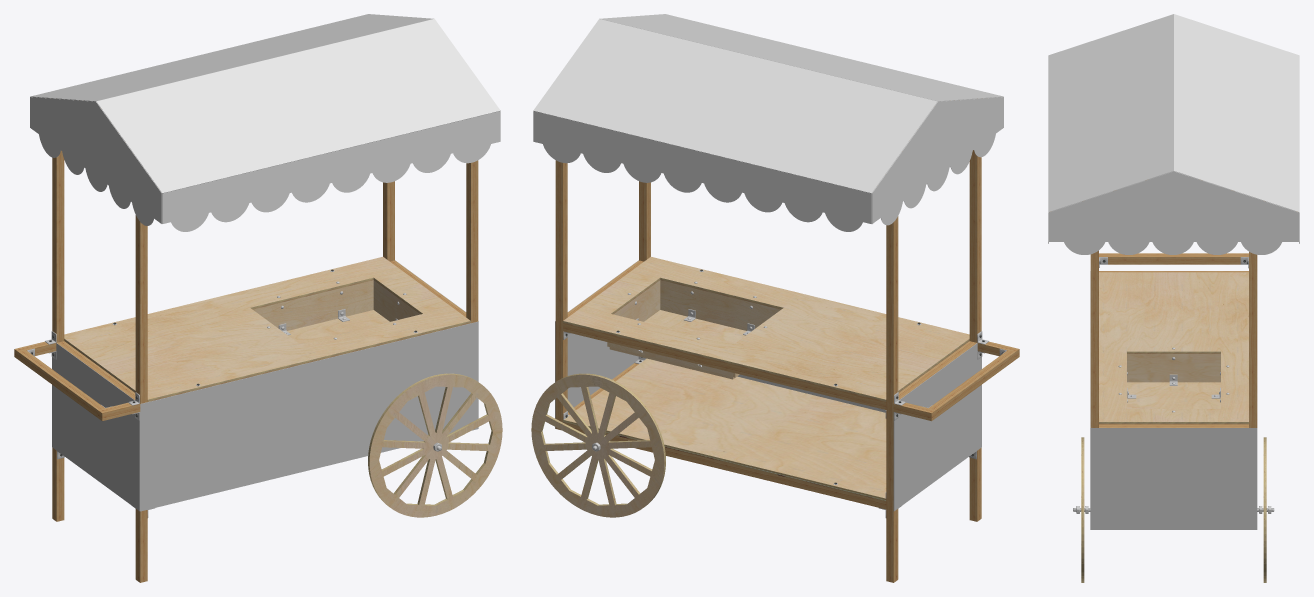
The picture shows the model from 3 angles, left to right: view 1: azimuth 30°, elevation 25°; view 2: azimuth 150°, elevation 25°; view 3: azimuth 270°, elevation 25°; orthographic projection. The views are drawn at different scales.
Parts seen in each view (by area): view 1: Плоскость.064, Плоскость.066, STOL.018, Цилиндр.007, KOLESO.024, Плоскость.067, Цилиндр.006, Плоскость.065, Куб.288, Куб.292, Куб.311, Куб.295 (+4 smaller); view 2: Плоскость.065, STOL.019, STOL.018, Цилиндр.005, KOLESO.023, Плоскость.067, Цилиндр.006, Плоскость.064, Куб.288, Куб.292, Куб.310, Куб.291 (+8 smaller); view 3: Плоскость.064, Плоскость.065, STOL.018, Плоскость.068, Цилиндр.008, Куб.313, Куб.314, Куб.284, Куб.295, Куб.291, Куб.297, KOLESO.023 (+1 smaller).
Boxes of the visible parts, left/top/right/bottom form: Плоскость.064: left=96, top=19, right=500, bottom=193; Плоскость.066: left=140, top=321, right=478, bottom=511; STOL.018: left=64, top=257, right=470, bottom=401; Цилиндр.007: left=162, top=111, right=500, bottom=231; KOLESO.024: left=368, top=373, right=502, bottom=517; Плоскость.067: left=52, top=343, right=140, bottom=511; Цилиндр.006: left=30, top=97, right=161, bottom=225; Плоскость.065: left=30, top=14, right=433, bottom=101; Куб.288: left=52, top=150, right=64, bottom=521; Куб.292: left=135, top=215, right=147, bottom=582; Куб.311: left=253, top=280, right=373, bottom=330; Куб.295: left=466, top=160, right=478, bottom=323; Плоскость.065: left=533, top=19, right=937, bottom=193; STOL.019: left=563, top=358, right=886, bottom=501; STOL.018: left=563, top=257, right=969, bottom=401; Цилиндр.005: left=533, top=111, right=871, bottom=231; KOLESO.023: left=531, top=373, right=665, bottom=517; Плоскость.067: left=893, top=343, right=981, bottom=511; Цилиндр.006: left=872, top=97, right=1003, bottom=225; Плоскость.064: left=599, top=14, right=1003, bottom=101; Куб.288: left=886, top=216, right=898, bottom=582; Куб.292: left=969, top=150, right=981, bottom=521; Куб.310: left=660, top=280, right=780, bottom=330; Куб.291: left=555, top=160, right=567, bottom=430; Плоскость.064: left=1048, top=14, right=1173, bottom=212; Плоскость.065: left=1174, top=14, right=1299, bottom=212; STOL.018: left=1099, top=272, right=1248, bottom=424; Плоскость.068: left=1090, top=428, right=1257, bottom=529; Цилиндр.008: left=1049, top=171, right=1298, bottom=254; Куб.313: left=1127, top=354, right=1220, bottom=382; Куб.314: left=1127, top=382, right=1220, bottom=408; Куб.284: left=1099, top=253, right=1248, bottom=264; Куб.295: left=1090, top=250, right=1098, bottom=427; Куб.291: left=1249, top=252, right=1257, bottom=427; Куб.297: left=1099, top=424, right=1248, bottom=427; KOLESO.023: left=1263, top=437, right=1266, bottom=582.
Bounding box in the file's own units: 2.08 × 2.26 × 1.2.
